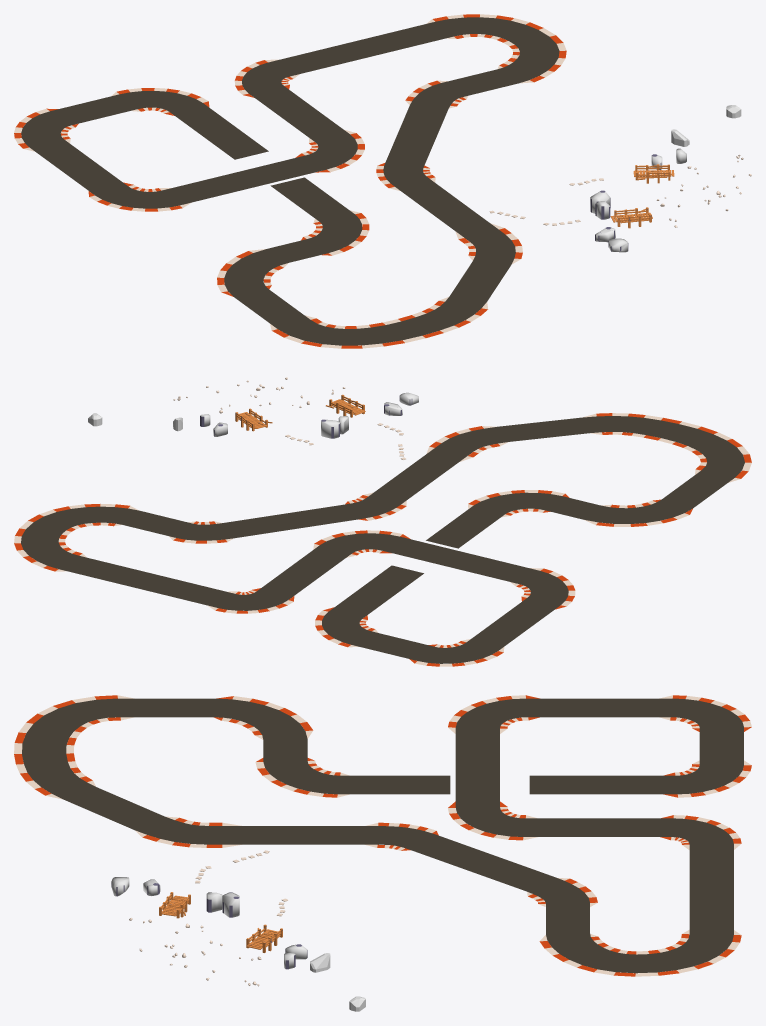
File: scenery.glb
3 views of the same model, one above another, from view 1: azimuth 30°, elevation 25°; view 2: azimuth 150°, elevation 25°; view 3: azimuth 270°, elevation 25° (orthographic). The views are drawn at different scales.
Parts seen in each view (by area): view 1: refRoadPhysicalFixed.001, Cube.076, Cube.049, Cube.078, Cube.079, Cube.071, bridgePhysicalFixed; view 2: refRoadPhysicalFixed.001, Cube.076, Cube.049, Cube.078, Cube.079, Cube.072, Cube.071, Cube.067, bridgePhysicalFixed.001; view 3: refRoadPhysicalFixed.001, Cube.076, Cube.049, Cube.078, Cube.079, Cube.071, Cube.072, Cube.075, Cube.067, Cube.066, bridgePhysicalFixed, Cube.064 (+1 smaller).
Part boxes in pixels (x1=…): refRoadPhysicalFixed.001: x1=21, y1=17, x2=559, y2=345; Cube.076: x1=270, y1=297, x2=488, y2=348; Cube.049: x1=426, y1=14, x2=566, y2=83; Cube.078: x1=217, y1=249, x2=288, y2=296; Cube.079: x1=301, y1=210, x2=369, y2=255; Cube.071: x1=88, y1=182, x2=191, y2=211; bridgePhysicalFixed: x1=633, y1=164, x2=674, y2=183; refRoadPhysicalFixed.001: x1=21, y1=416, x2=744, y2=663; Cube.076: x1=582, y1=413, x2=751, y2=482; Cube.049: x1=14, y1=503, x2=138, y2=571; Cube.078: x1=583, y1=499, x2=692, y2=526; Cube.079: x1=468, y1=490, x2=569, y2=517; Cube.072: x1=313, y1=530, x2=410, y2=557; Cube.071: x1=510, y1=568, x2=575, y2=609; Cube.067: x1=409, y1=639, x2=504, y2=666; bridgePhysicalFixed.001: x1=326, y1=394, x2=365, y2=417; refRoadPhysicalFixed.001: x1=22, y1=698, x2=743, y2=973; Cube.076: x1=14, y1=695, x2=134, y2=799; Cube.049: x1=539, y1=929, x2=741, y2=976; Cube.078: x1=214, y1=696, x2=313, y2=739; Cube.079: x1=255, y1=758, x2=349, y2=797; Cube.071: x1=448, y1=695, x2=539, y2=733; Cube.072: x1=448, y1=801, x2=537, y2=840; Cube.075: x1=135, y1=816, x2=241, y2=847; Cube.067: x1=659, y1=695, x2=751, y2=731; Cube.066: x1=663, y1=760, x2=751, y2=797; bridgePhysicalFixed: x1=246, y1=924, x2=282, y2=952; Cube.064: x1=660, y1=815, x2=741, y2=849.
Bounding box in the file's own units: 168 × 5.47 × 167.
Materials: 1 (1 with a texture image).
